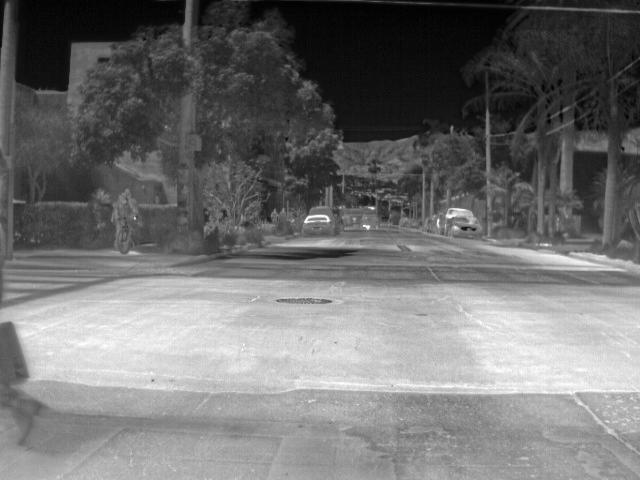car: (446, 218, 484, 241), (309, 206, 340, 232), (301, 213, 334, 237), (444, 206, 478, 220), (358, 212, 380, 230)
person: (113, 190, 139, 252), (269, 206, 282, 224), (277, 206, 289, 222)
